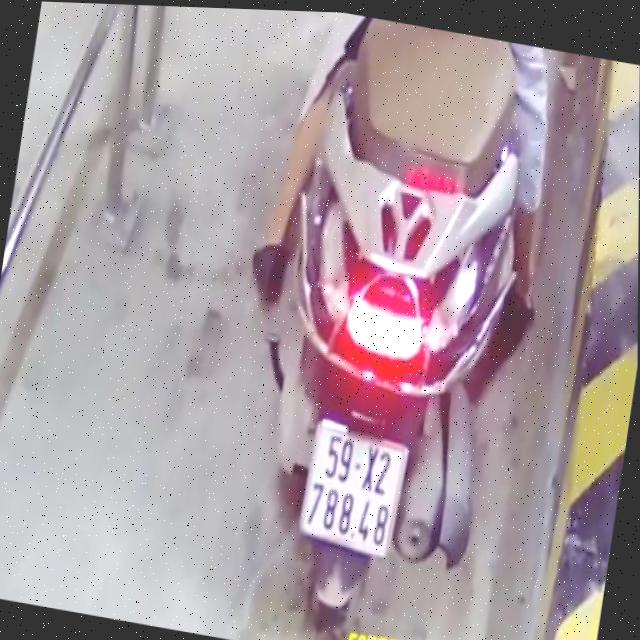motorcycle: (240, 9, 551, 640)
plate: (296, 414, 410, 563)
